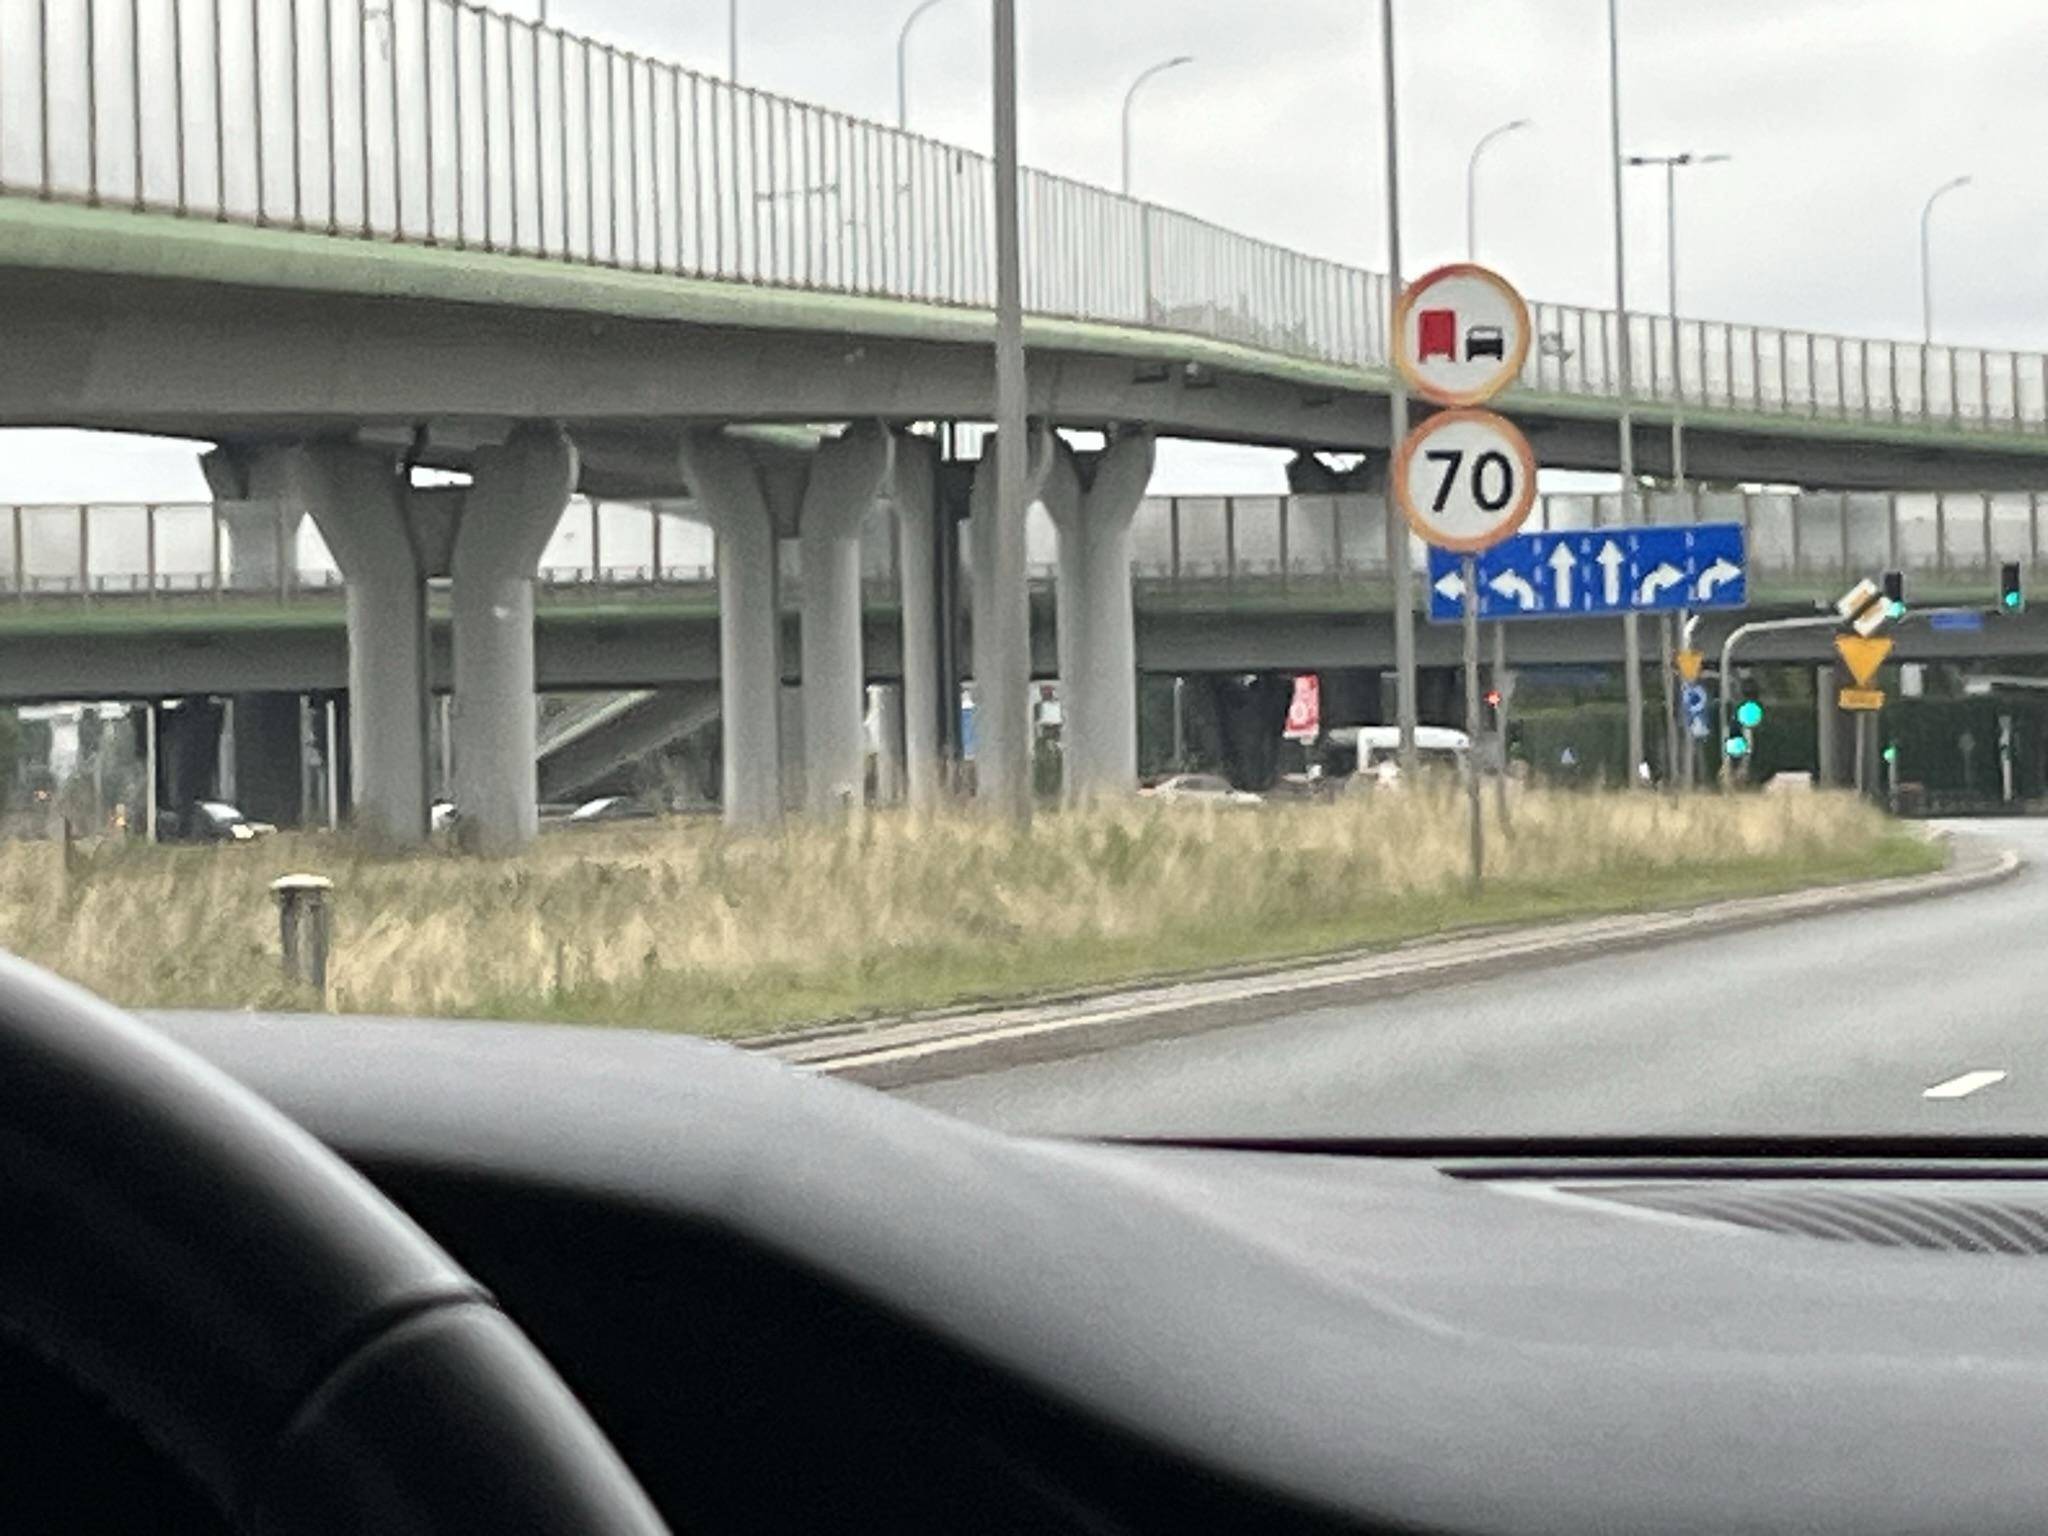information: (1837, 578, 1892, 636)
mandatory: (1679, 682, 1708, 716)
other: (1429, 520, 1750, 628), (1838, 691, 1884, 712)
prohibitory: (1392, 407, 1538, 553), (1392, 260, 1532, 407)
warning: (1834, 634, 1895, 687), (1675, 653, 1706, 684)
